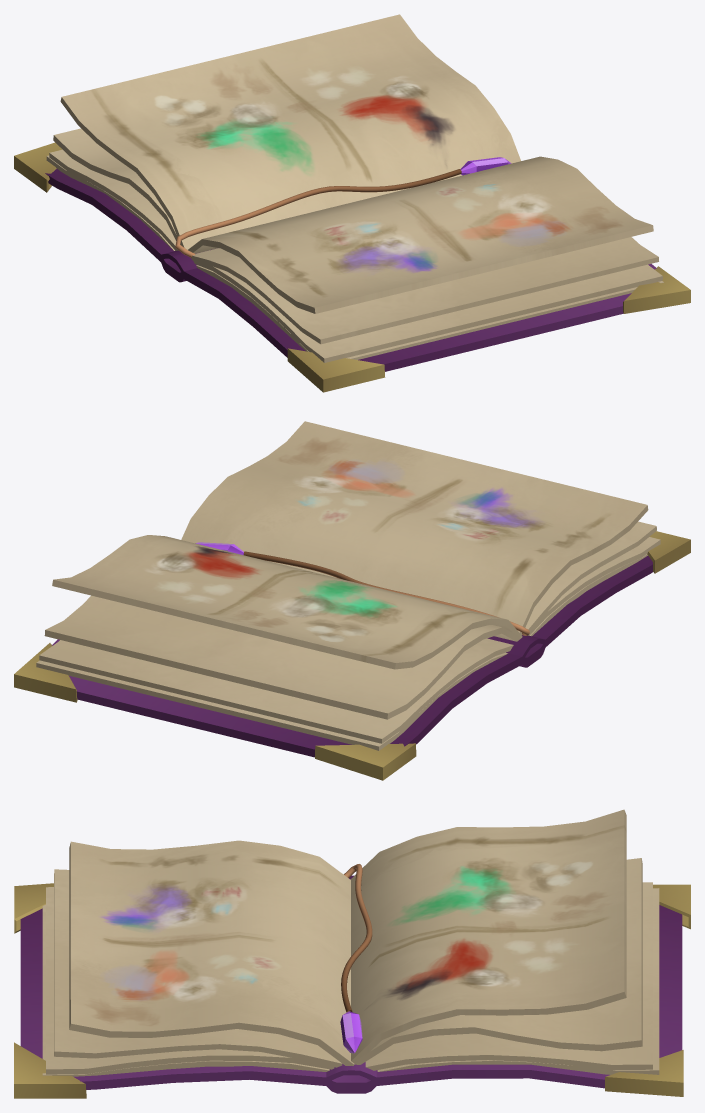
File: LibroDeRecetas.fbx
The picture shows the model from 3 angles, top to bottom: view 1: azimuth 30°, elevation 25°; view 2: azimuth 150°, elevation 25°; view 3: azimuth 270°, elevation 25°; orthographic projection. The views are drawn at different scales.
Visible parts, largest first — view 1: Libro; view 2: Libro; view 3: Libro.
Part boxes in pixels (bbox=[...]): Libro: bbox=[14, 14, 690, 392]; Libro: bbox=[14, 421, 690, 780]; Libro: bbox=[14, 809, 690, 1098].
Bounding box in the file's own units: 1.08 × 0.2491 × 1.54.
